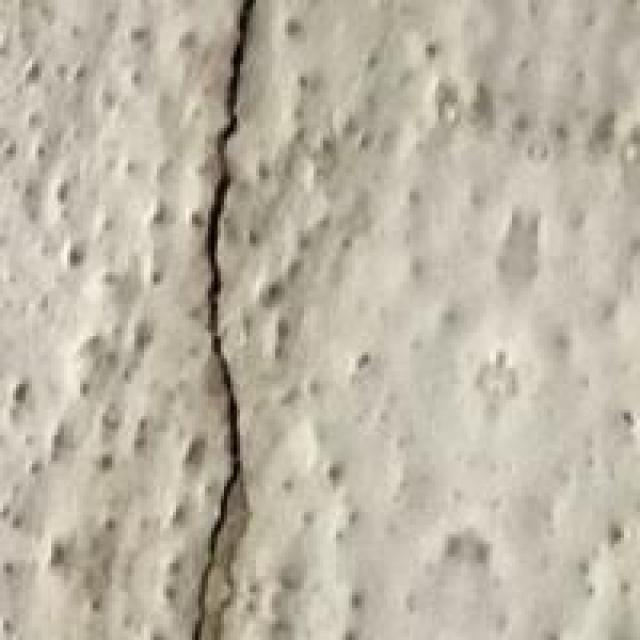crack: (166, 0, 308, 637)
